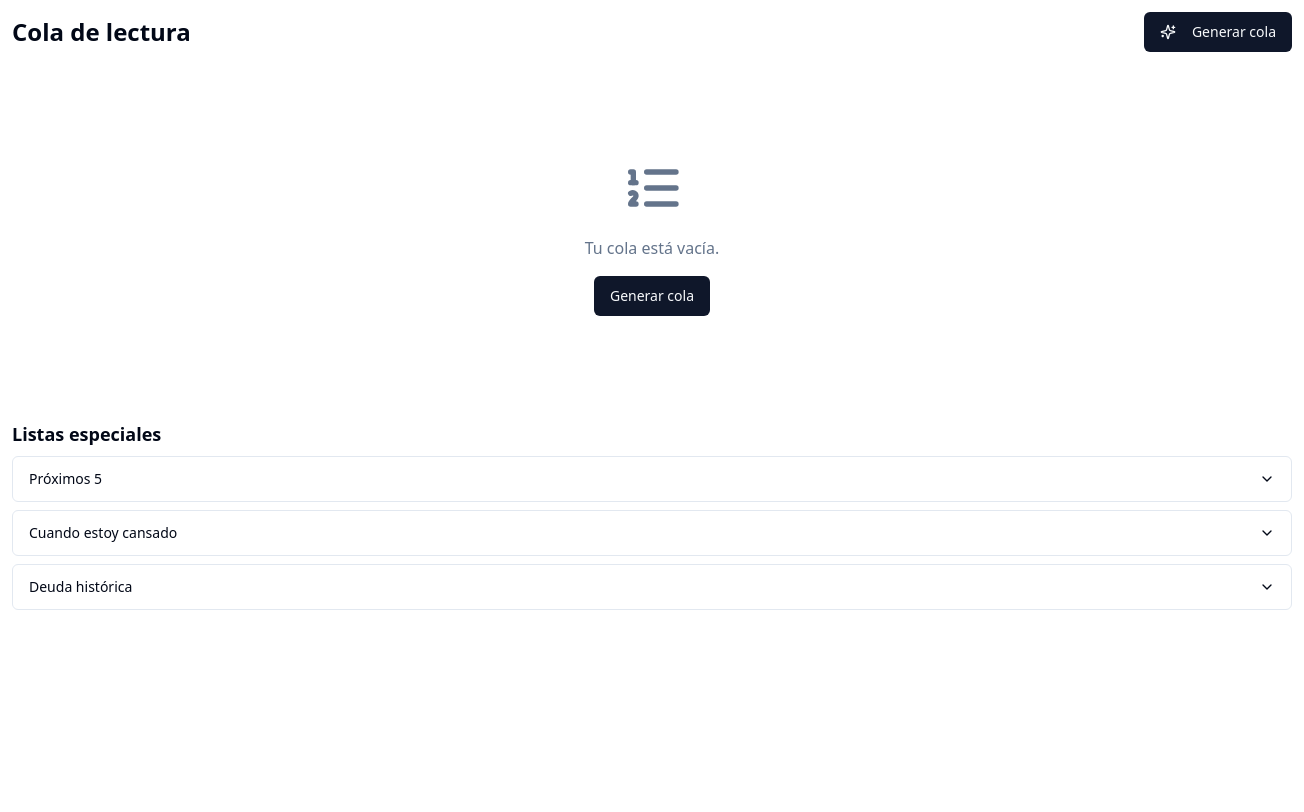
QueuePage — badge IA (CA-13 / CA-14) › muestra "Generada con algoritmo" cuando aiContributed=false (CA-14)
This screenshot has width=1304, height=812.
Click the button "Generar cola" in the row of "Cola de lectura".
click(1218, 32)  # box [1144, 12, 1292, 52]
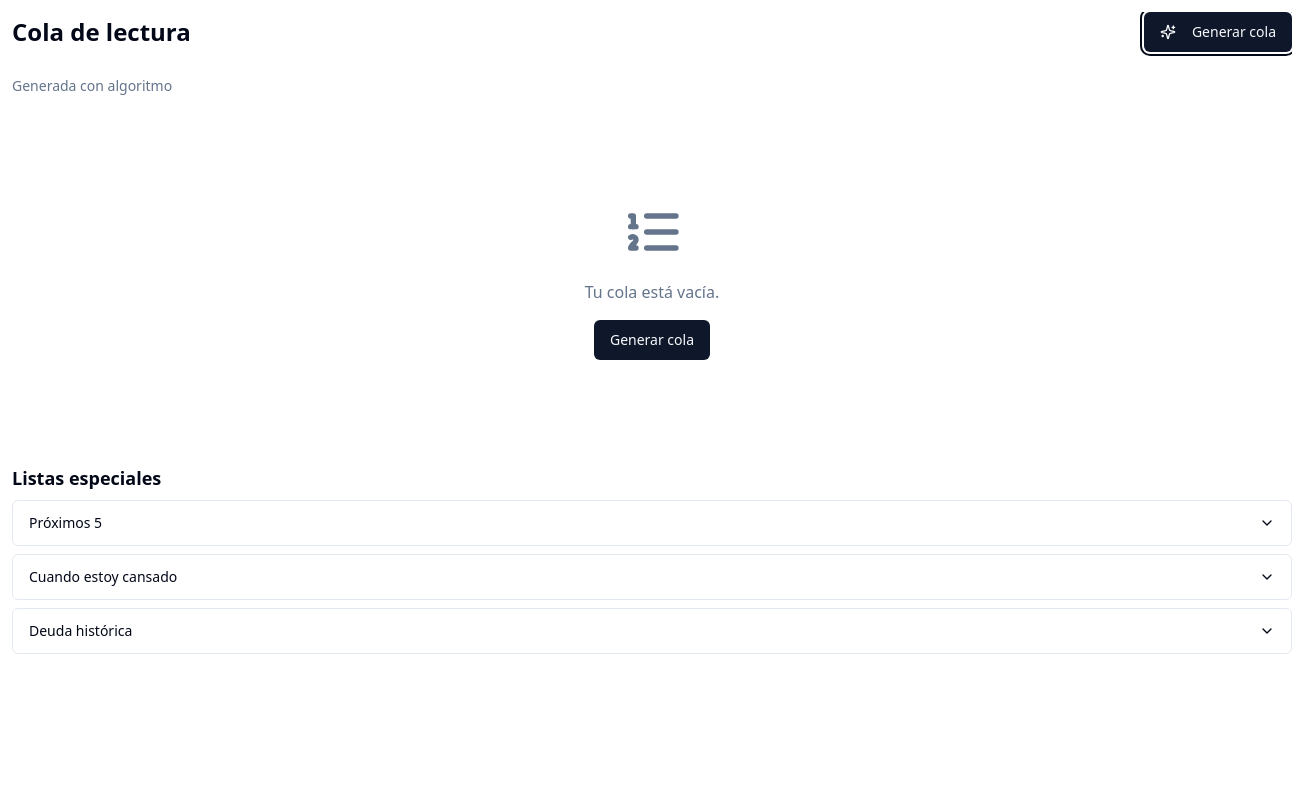
Check: the text "Generada con algoritmo" is shown, box [12, 76, 172, 95]
